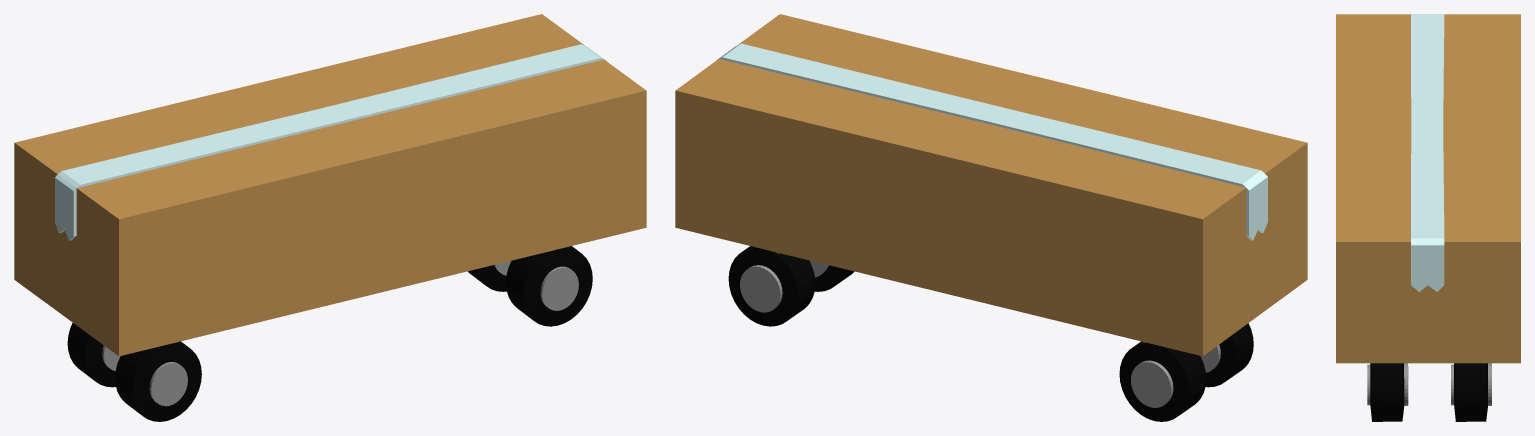
File: BoxCar7.fbx
The picture shows the model from 3 angles, left to right: view 1: azimuth 30°, elevation 25°; view 2: azimuth 150°, elevation 25°; view 3: azimuth 270°, elevation 25°; orthographic projection. The views are drawn at different scales.
Parts seen in each view (by area): view 1: Cube; view 2: Cube; view 3: Cube.
Boxes of the visible parts, <box> form: Cube: <box>14,14,646,421</box>; Cube: <box>675,14,1307,421</box>; Cube: <box>1336,14,1520,421</box>.
Bounding box in the file's own units: 456 × 567 × 1342.
